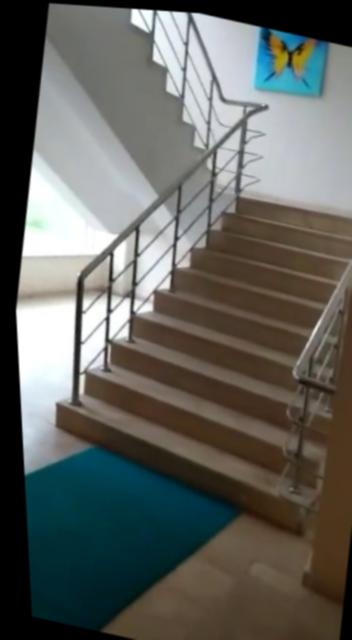Bench: (30, 130, 352, 541)
